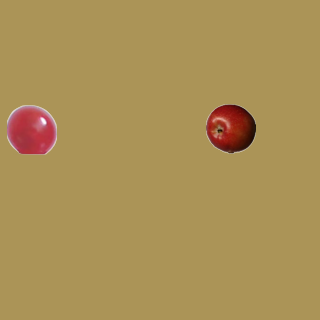Apple Braeburn: (205, 103, 255, 153)
Redcurrant: (6, 104, 56, 154)
